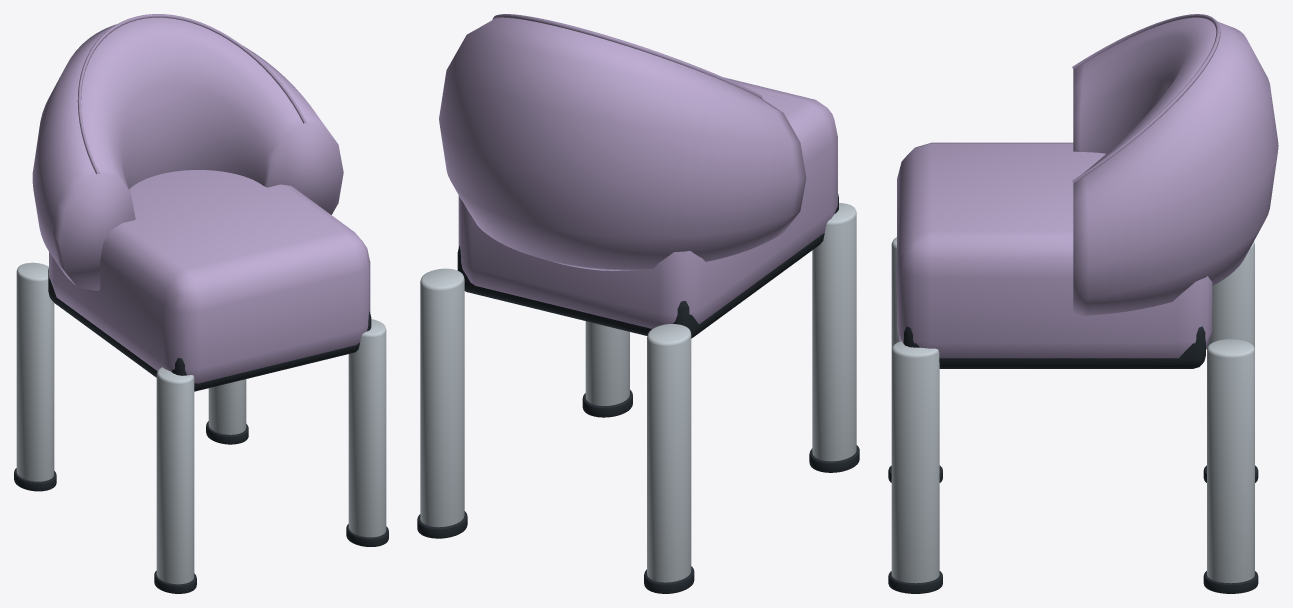
Rendered from kids-shell-chair.glb.
3 views of the same model, side by side, from view 1: azimuth 30°, elevation 25°; view 2: azimuth 150°, elevation 25°; view 3: azimuth 270°, elevation 25° (orthographic). The views are drawn at different scales.
Parts seen in each view (by area): view 1: kids-shell-chair; view 2: kids-shell-chair; view 3: kids-shell-chair.
Part boxes in pixels (x1,y1,x2,y2): kids-shell-chair: (14,14,388,593); kids-shell-chair: (417,14,859,593); kids-shell-chair: (888,14,1278,593).
Bounding box in the file's own units: 0.36 × 0.54 × 0.38.
